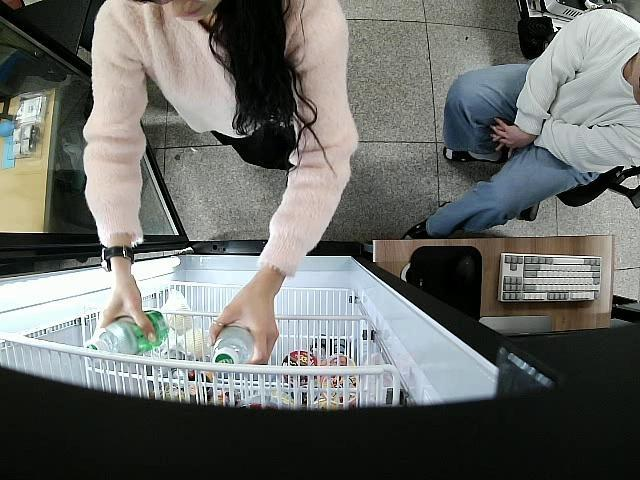18_trevi: (88, 312, 168, 366), (212, 318, 255, 379)
